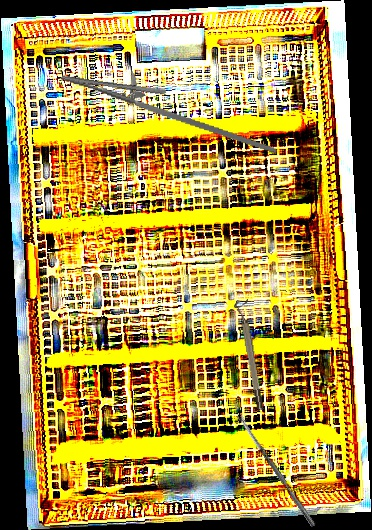Fixation Ring: (233, 298, 266, 412)
Needle Holder: (55, 57, 286, 154)
Surgical Spoon: (236, 412, 317, 528)
